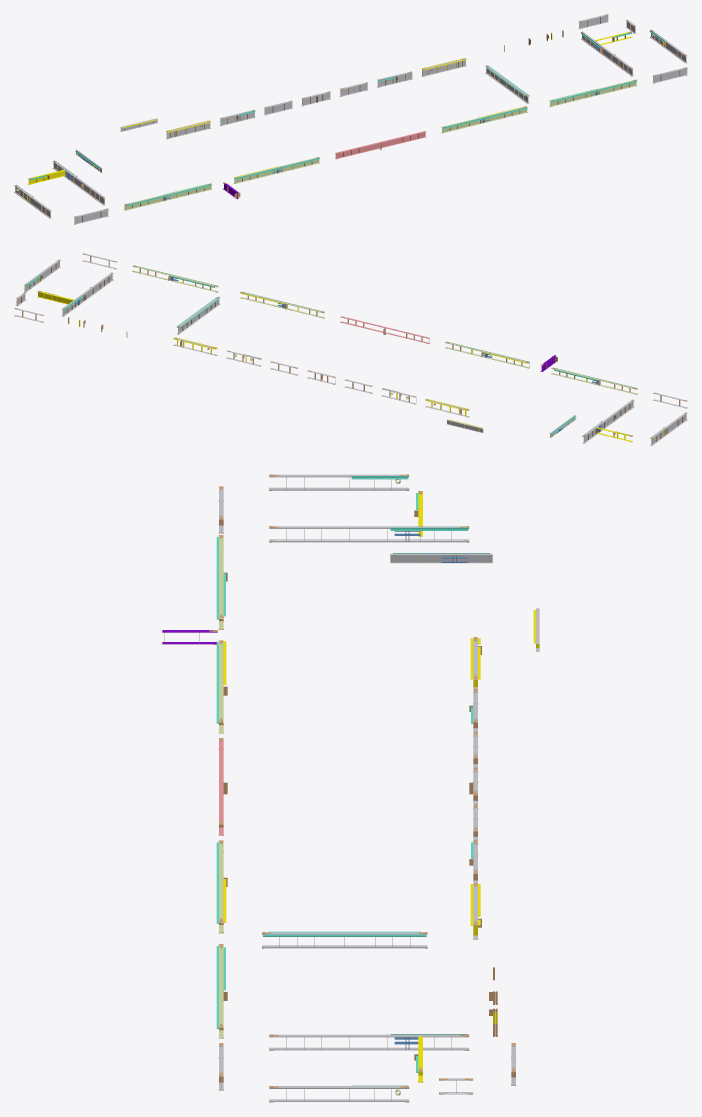
The picture shows the model from 3 angles, top to bottom: view 1: azimuth 30°, elevation 25°; view 2: azimuth 150°, elevation 25°; view 3: azimuth 270°, elevation 25°; orthographic projection. The views are drawn at different scales.
Visible parts, largest first — view 1: 18-7GL[1WbTrB009Vy34sCZ0qD3Ks], 18-7GL[1WbTrB009Vv34sCZ0qD3Ks], 18-7GL[1WbTrB009Vw34sCZ0qD3Ks], 18-7GL[1WbTrB009Vx34sCZ0qD3Ks], 18-7GL[1WbTrB009Vz34sCZ0qD3Ks], 18-7GL[1WbTrB009Vs34sCZ0qD3Ks], 18-7GL[1WbTrB009Vr34sCZ0qD3Ks], 18-7GL[1WbTrB009Vh34sCZ0qD3Ks], 18-7GL[1WbTrB009Vu34sCZ0qD3Ks], 18-7GL[1WbTrB009Vn34sCZ0qD3Ks]; view 2: 18-7GL[1WbTrB009Vr34sCZ0qD3Ks], 18-7GL[1WbTrB009Vs34sCZ0qD3Ks], 18-7GL[1WbTrB009Vu34sCZ0qD3Ks], 18-7GL[1WbTrB009Vy34sCZ0qD3Ks], 18-7GL[1WbTrB009Vx34sCZ0qD3Ks], 18-7GL[1WbTrB009Vv34sCZ0qD3Ks], 18-7GL[1WbTrB009Vz34sCZ0qD3Ks], 18-7GL[1WbTrB009Vw34sCZ0qD3Ks], 18-7GL[1WbTrB009Vq34sCZ0qD3Ks]; view 3: 18-7GL[1WbTrB009Vs34sCZ0qD3Ks], 18-7GL[1WbTrB009Vr34sCZ0qD3Ks], 18-7GL[1WbTrB009Vu34sCZ0qD3Ks], 18-7GL[1WbTrB009W634sCZ0qD3Ks], 18-7GL[1WbTrB009Vq34sCZ0qD3Ks].
Boxes of the visible parts, x1,y1,x2,y2 form: 18-7GL[1WbTrB009Vy34sCZ0qD3Ks]: (335, 132, 425, 158); 18-7GL[1WbTrB009Vv34sCZ0qD3Ks]: (124, 184, 211, 210); 18-7GL[1WbTrB009Vw34sCZ0qD3Ks]: (549, 80, 636, 106); 18-7GL[1WbTrB009Vx34sCZ0qD3Ks]: (234, 157, 319, 183); 18-7GL[1WbTrB009Vz34sCZ0qD3Ks]: (441, 106, 527, 133); 18-7GL[1WbTrB009Vs34sCZ0qD3Ks]: (581, 33, 633, 76); 18-7GL[1WbTrB009Vr34sCZ0qD3Ks]: (53, 161, 105, 205); 18-7GL[1WbTrB009Vh34sCZ0qD3Ks]: (166, 121, 210, 138); 18-7GL[1WbTrB009Vu34sCZ0qD3Ks]: (485, 66, 529, 103); 18-7GL[1WbTrB009Vn34sCZ0qD3Ks]: (422, 59, 466, 76); 18-7GL[1WbTrB009Vr34sCZ0qD3Ks]: (582, 400, 634, 443); 18-7GL[1WbTrB009Vs34sCZ0qD3Ks]: (62, 273, 113, 316); 18-7GL[1WbTrB009Vu34sCZ0qD3Ks]: (177, 297, 219, 334); 18-7GL[1WbTrB009Vy34sCZ0qD3Ks]: (340, 317, 429, 343); 18-7GL[1WbTrB009Vx34sCZ0qD3Ks]: (445, 342, 529, 368); 18-7GL[1WbTrB009Vv34sCZ0qD3Ks]: (551, 368, 637, 394); 18-7GL[1WbTrB009Vz34sCZ0qD3Ks]: (240, 292, 324, 318); 18-7GL[1WbTrB009Vw34sCZ0qD3Ks]: (132, 266, 218, 292); 18-7GL[1WbTrB009Vq34sCZ0qD3Ks]: (650, 413, 687, 445); 18-7GL[1WbTrB009Vs34sCZ0qD3Ks]: (269, 1034, 469, 1050); 18-7GL[1WbTrB009Vr34sCZ0qD3Ks]: (269, 526, 469, 542); 18-7GL[1WbTrB009Vu34sCZ0qD3Ks]: (262, 932, 427, 948); 18-7GL[1WbTrB009W634sCZ0qD3Ks]: (390, 553, 492, 563); 18-7GL[1WbTrB009Vq34sCZ0qD3Ks]: (269, 474, 409, 490).
Bounding box in the file's own units: 39.62 × 0.4419 × 10.3.
